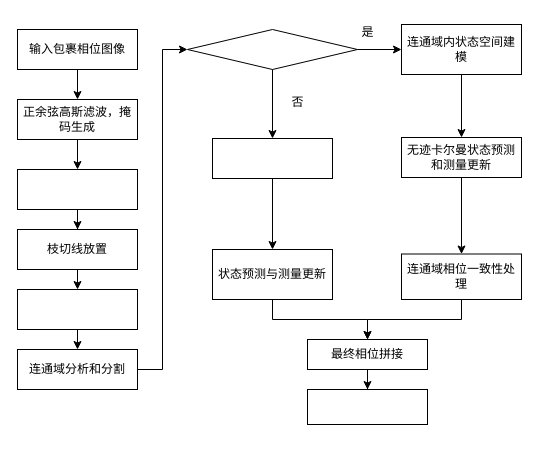
This 539x466 diagram has some shape labels left out. The box of each missing label's shape, as (x1, y1, x2, y2) in pixels:
全局状态空间建模: (212, 138, 332, 178)
存在多个连通域: (186, 28, 358, 70)
残差点检测: (16, 168, 138, 210)
洪水填充路径规划: (16, 288, 138, 330)
输出展开相位: (306, 388, 428, 424)
